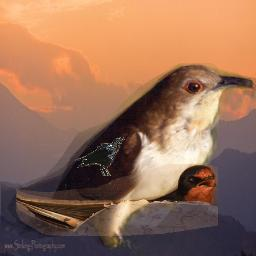Crow: (75, 137, 125, 176)
Cuckoo: (1, 63, 256, 249)
Swallow: (16, 163, 218, 236)
